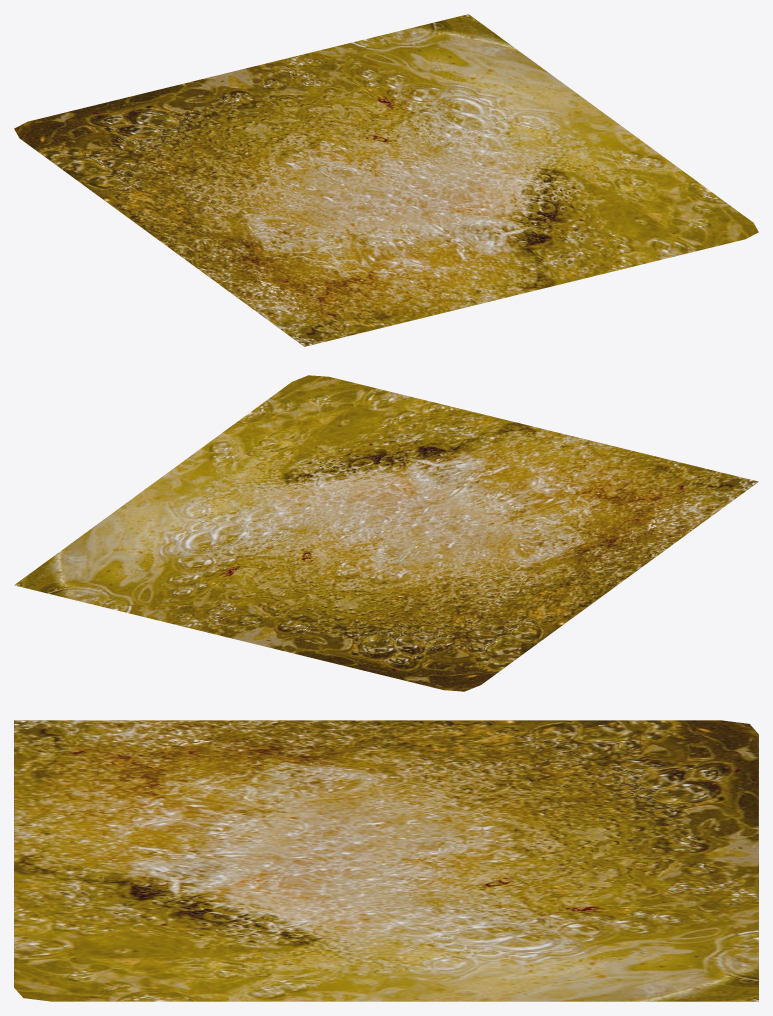
File: aceite.obj
The picture shows the model from 3 angles, top to bottom: view 1: azimuth 30°, elevation 25°; view 2: azimuth 150°, elevation 25°; view 3: azimuth 270°, elevation 25°; orthographic projection. The views are drawn at different scales.
Visible parts, largest first — view 1: pPlane1; view 2: pPlane1; view 3: pPlane1.
Part boxes in pixels (bbox=[...]): pPlane1: bbox=[14, 14, 758, 346]; pPlane1: bbox=[14, 375, 758, 691]; pPlane1: bbox=[14, 720, 758, 1001].
Size of the model in its own units: 0.7945 by 0 by 0.8894.
1 material, 1 textured.
